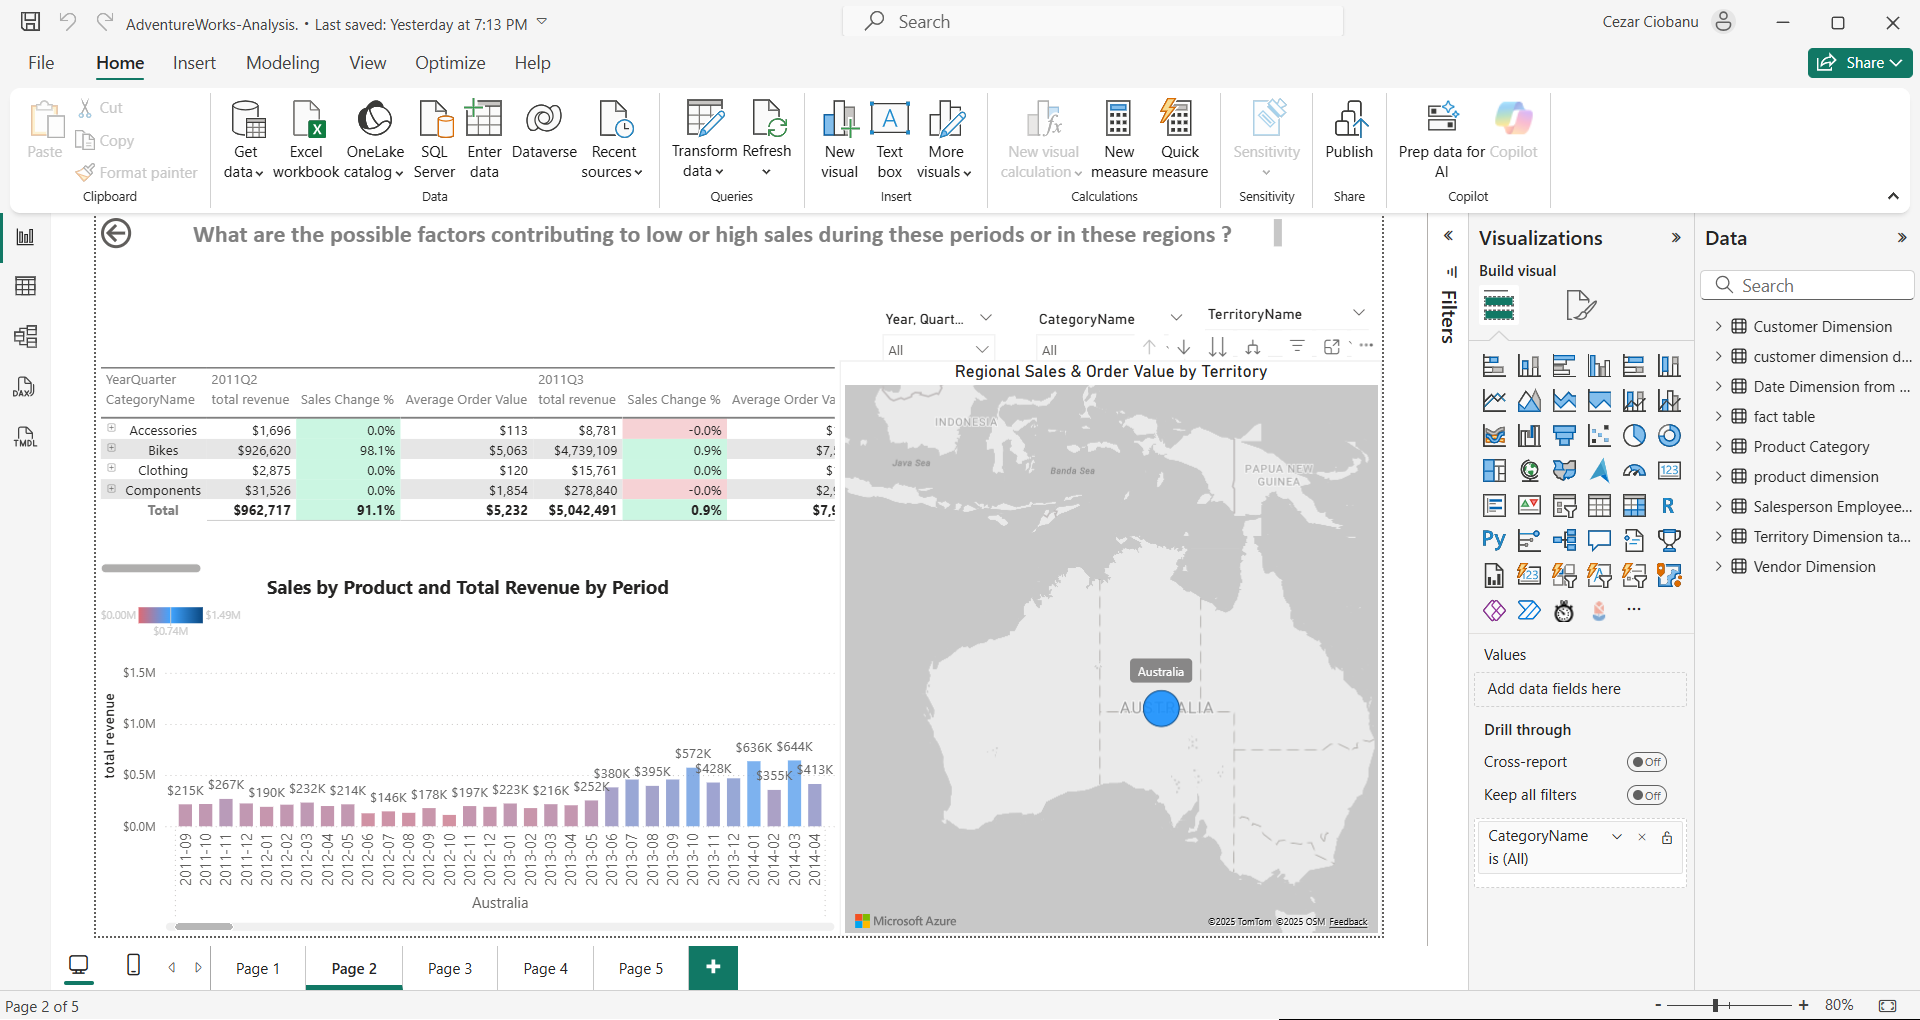

The page's visual inventory and layout, read from the dashboard file:
{"tool":"powerbi","page":{"name":"Page 2","canvas":[1280,720],"ordinal":1},"visuals":[{"type":"columnChart","title":"Sales by Product and Total Revenue by Period","fields":{"Category":["Territory Dimension table.TerritoryName","Date Dimension from orders.Period"],"Y":["fact table.total revenue"]},"box":[0,359.5,740.2,360.7],"z":0},{"type":"slicer","title":"Period","fields":{"Values":["Date Dimension from orders.Year","Date Dimension from orders.Quarter"]},"box":[772.2,92.2,132.2,56.7],"z":1000},{"type":"actionButton","box":[0,0,100,40],"z":2000},{"type":"slicer","fields":{"Values":["Product Category.CategoryName"]},"box":[925,92.5,168.8,55],"z":3000},{"type":"slicer","fields":{"Values":["Territory Dimension table.TerritoryName"]},"box":[1093.8,87.5,182.5,60],"z":4000},{"type":"textbox","box":[50,1.7,1135,38.3],"z":5000},{"type":"pivotTable","fields":{"Rows":["Product Category.CategoryName","product dimension.ProductName"],"Columns":["Date Dimension from orders.YearQuarter"],"Values":["fact table.total revenue","fact table.Sales Change %","fact table.Average Order Value"]},"box":[0,147.5,740,215],"z":6000},{"type":"azureMap","title":"Regional Sales & Order Value by Territory ","fields":{"Category":["Territory Dimension table.TerritoryName","Territory Dimension table.TerritoryGroup","Territory Dimension table.CountryRegionCode"],"Size":["fact table.total revenue"]},"box":[740,146.2,540,573.8],"z":7000}]}

Visuals, with their boxes on the page's 1280x720 design canvas (x1, y1, x2, y2). These are canvas units, not pixel positions in the 1920x1020 screenshot, which may show the page scaled, cropped or inside an application window:
"Sales by Product and Total Revenue by Period" columnChart: box(0, 360, 740, 720)
"Period" slicer: box(772, 92, 904, 149)
actionButton: box(0, 0, 100, 40)
slicer - Product Category.CategoryName: box(925, 92, 1094, 148)
slicer - Territory Dimension table.TerritoryName: box(1094, 88, 1276, 148)
textbox: box(50, 2, 1185, 40)
pivotTable - Product Category.CategoryName x product dimension.ProductName: box(0, 148, 740, 362)
"Regional Sales & Order Value by Territory " azureMap: box(740, 146, 1280, 720)
